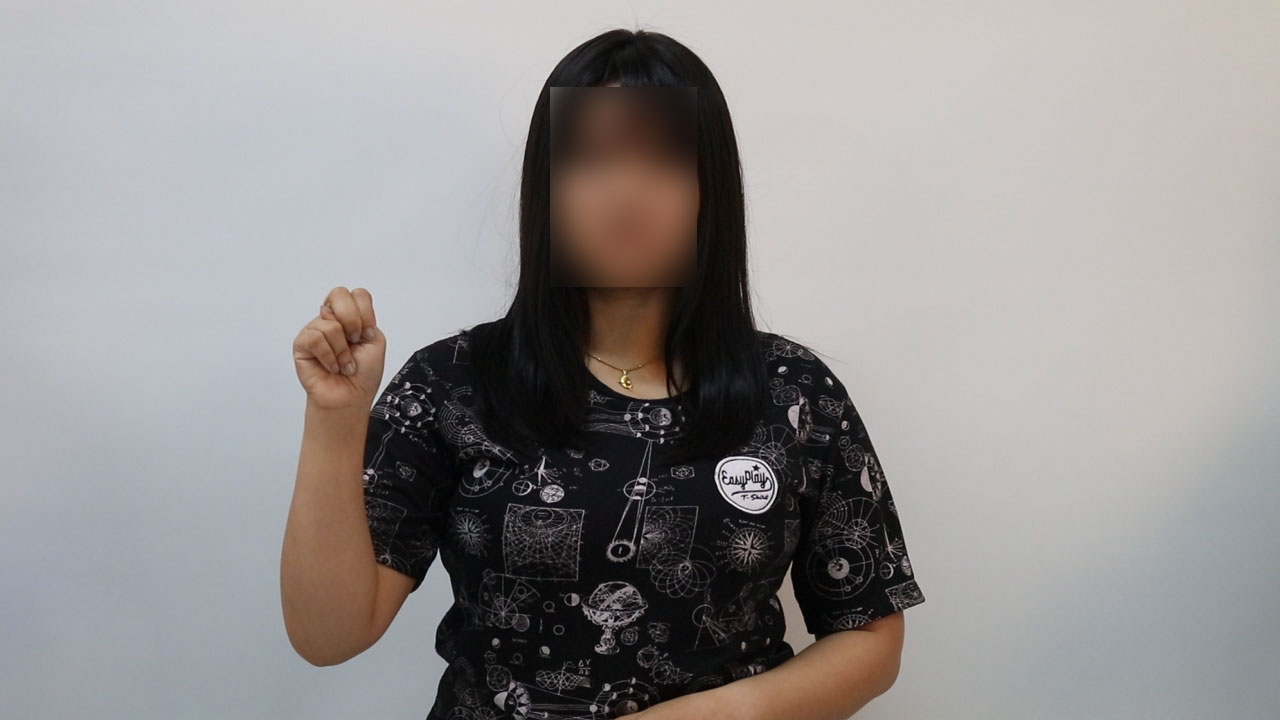nor: (279, 278, 403, 425)
